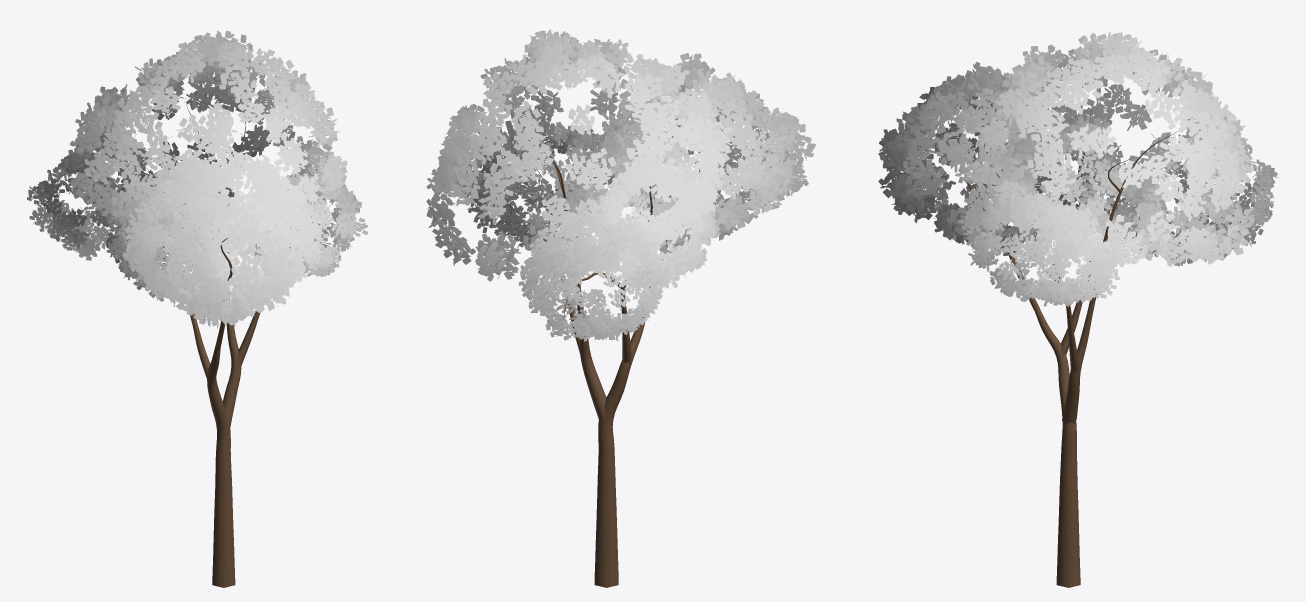
The model's file is Tree_3.fbx.
3 views of the same model, side by side, from view 1: azimuth 30°, elevation 25°; view 2: azimuth 150°, elevation 25°; view 3: azimuth 270°, elevation 25° (orthographic). The views are drawn at different scales.
Visible parts, largest first — view 1: Leaves, Trunk; view 2: Leaves, Trunk; view 3: Leaves, Trunk.
Boxes of the visible parts, x1,y1,x2,y2 form: Leaves: (27,30,368,328); Trunk: (86,101,330,587); Leaves: (426,29,815,341); Trunk: (529,144,700,587); Leaves: (878,31,1278,306); Trunk: (935,104,1233,587).
Bounding box in the file's own units: 709 × 1247 × 871.
